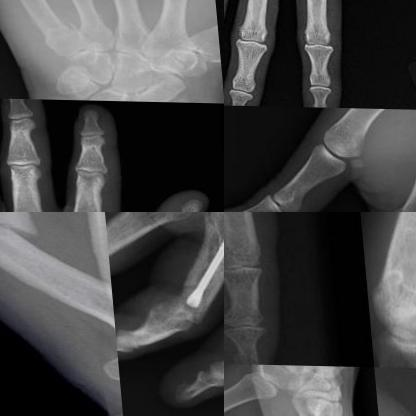fracture: (171, 212, 223, 313), (36, 16, 83, 54), (302, 101, 326, 106)
